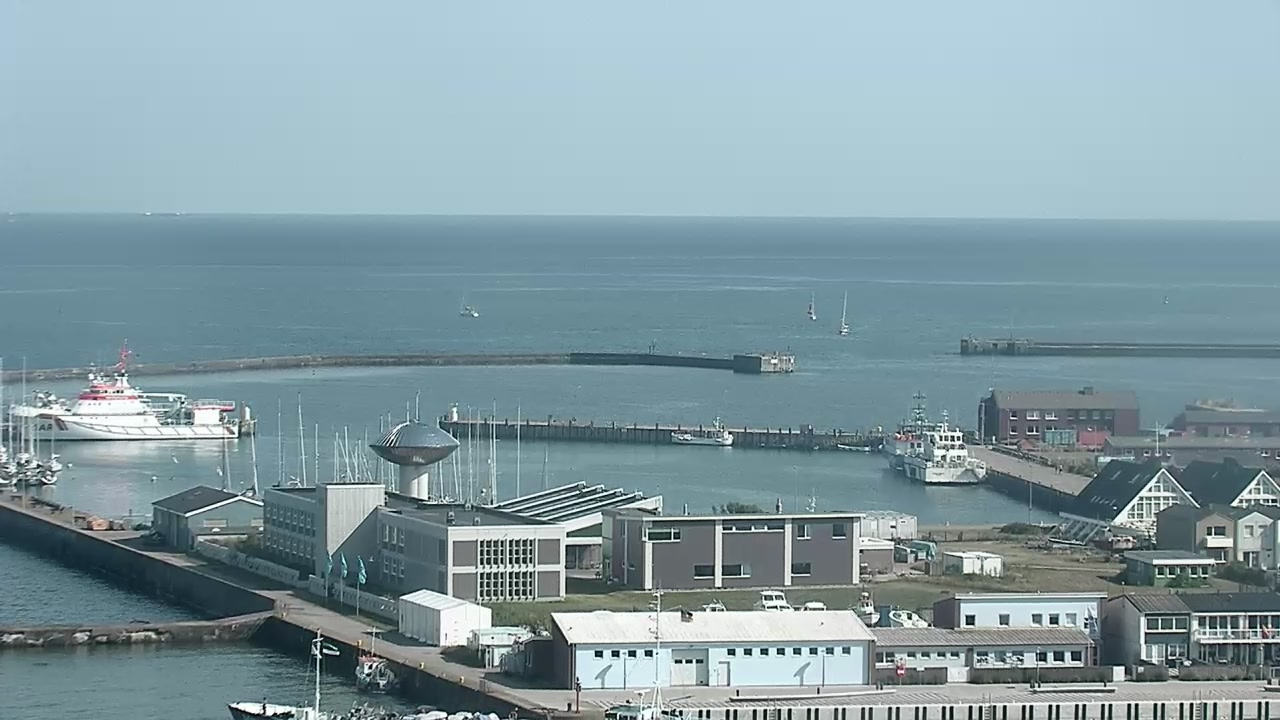human: (294, 703, 305, 718), (261, 696, 268, 716), (1058, 463, 1064, 474), (1053, 463, 1058, 473)
sea: (11, 336, 239, 440), (887, 387, 988, 486), (227, 641, 320, 719), (350, 622, 400, 697), (669, 414, 735, 447), (14, 355, 32, 465), (43, 406, 63, 471), (835, 288, 851, 336), (460, 288, 479, 318), (27, 467, 58, 485), (804, 289, 818, 322), (835, 441, 870, 452)
